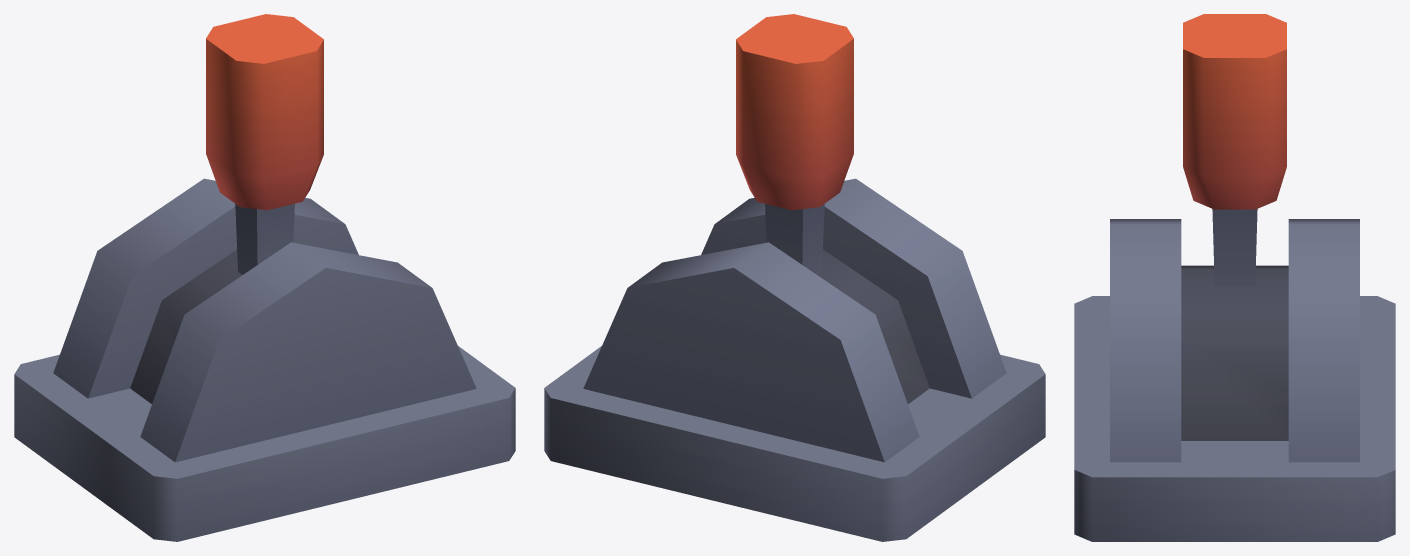
The model's file is kenney-platformer-lever.glb.
The picture shows the model from 3 angles, left to right: view 1: azimuth 30°, elevation 25°; view 2: azimuth 150°, elevation 25°; view 3: azimuth 270°, elevation 25°; orthographic projection. The views are drawn at different scales.
Parts seen in each view (by area): view 1: lever, handle; view 2: lever, handle; view 3: lever, handle.
Part boxes in pixels (left/top/right/bottom): lever: left=14, top=178, right=515, bottom=541; handle: left=206, top=14, right=323, bottom=274; lever: left=544, top=178, right=1045, bottom=541; handle: left=736, top=14, right=853, bottom=274; lever: left=1074, top=219, right=1395, bottom=541; handle: left=1183, top=14, right=1286, bottom=286.
Bounding box in the file's own units: 0.6 × 0.6418 × 0.45.
1 material, 1 textured.
